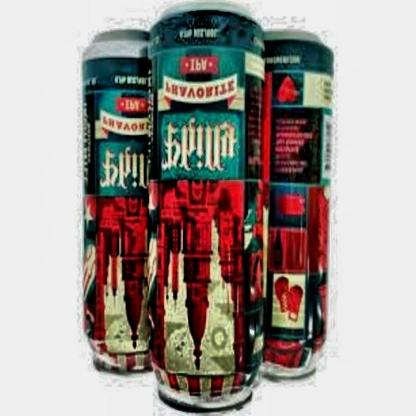Can: (149, 2, 267, 416), (80, 27, 170, 380), (260, 27, 340, 387)
